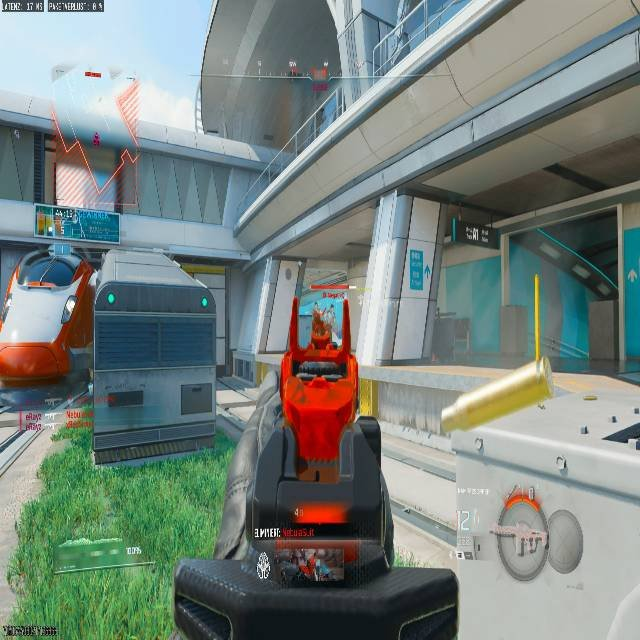head: (310, 309, 331, 349)
